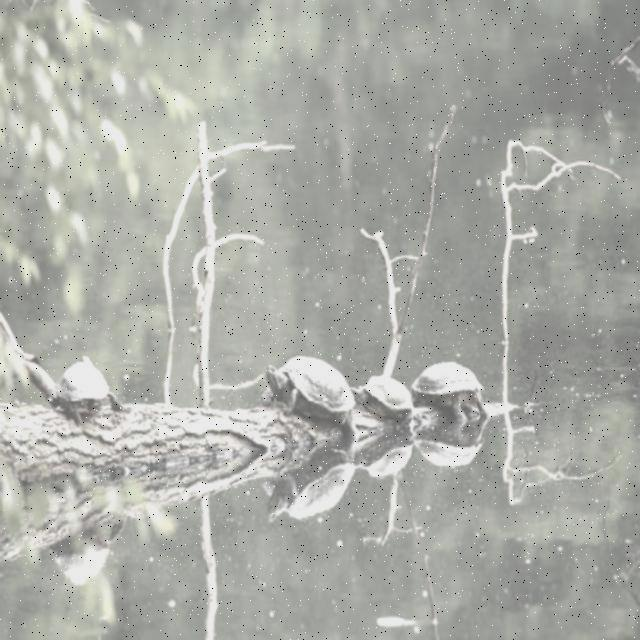tortoise: (261, 348, 349, 439), (418, 362, 486, 421)
